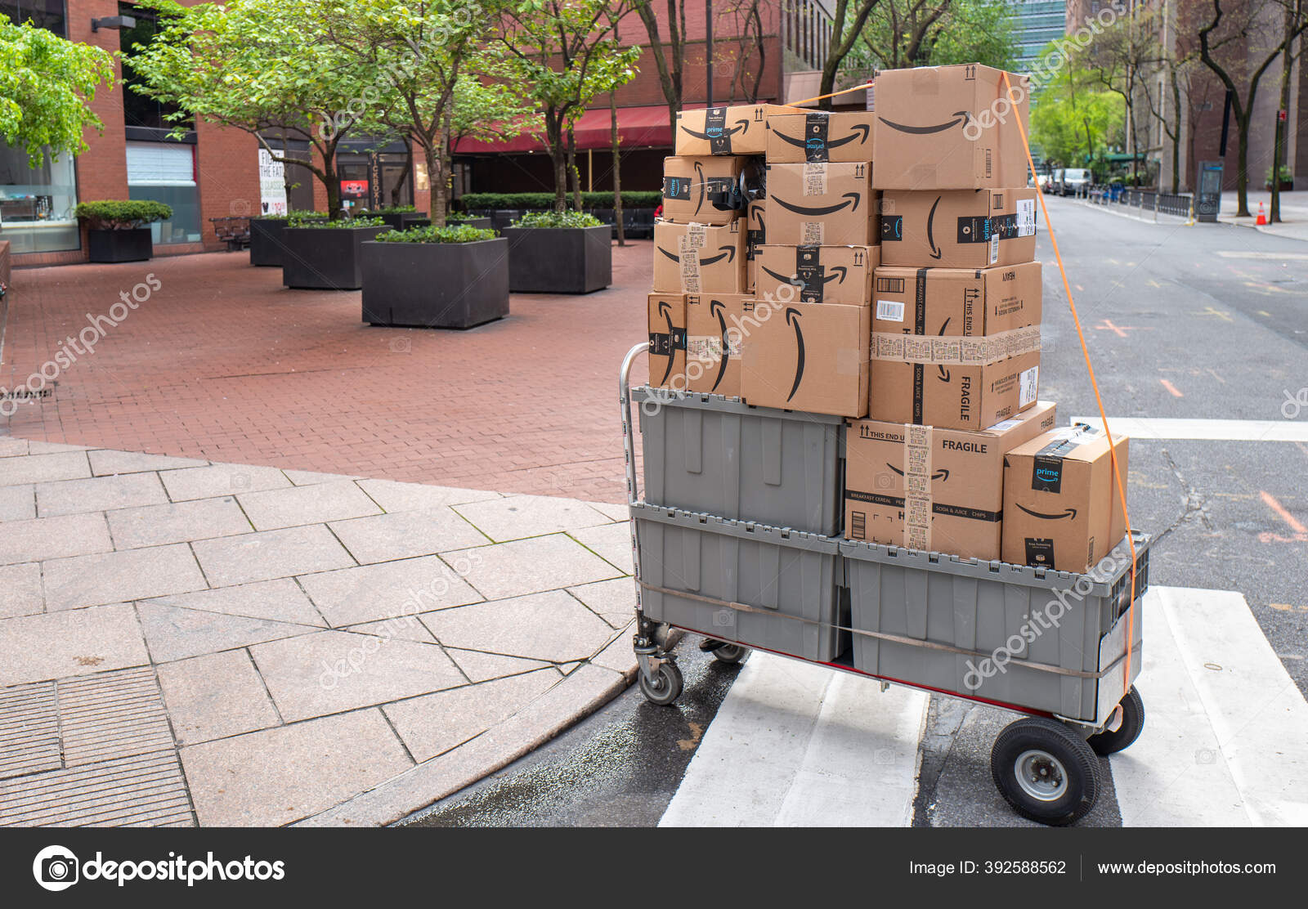DeliveryBox: (633, 186, 1049, 433), (840, 387, 1140, 575), (648, 59, 1033, 197)
Tree: (127, 9, 400, 210), (320, 3, 504, 241), (478, 9, 634, 222)
